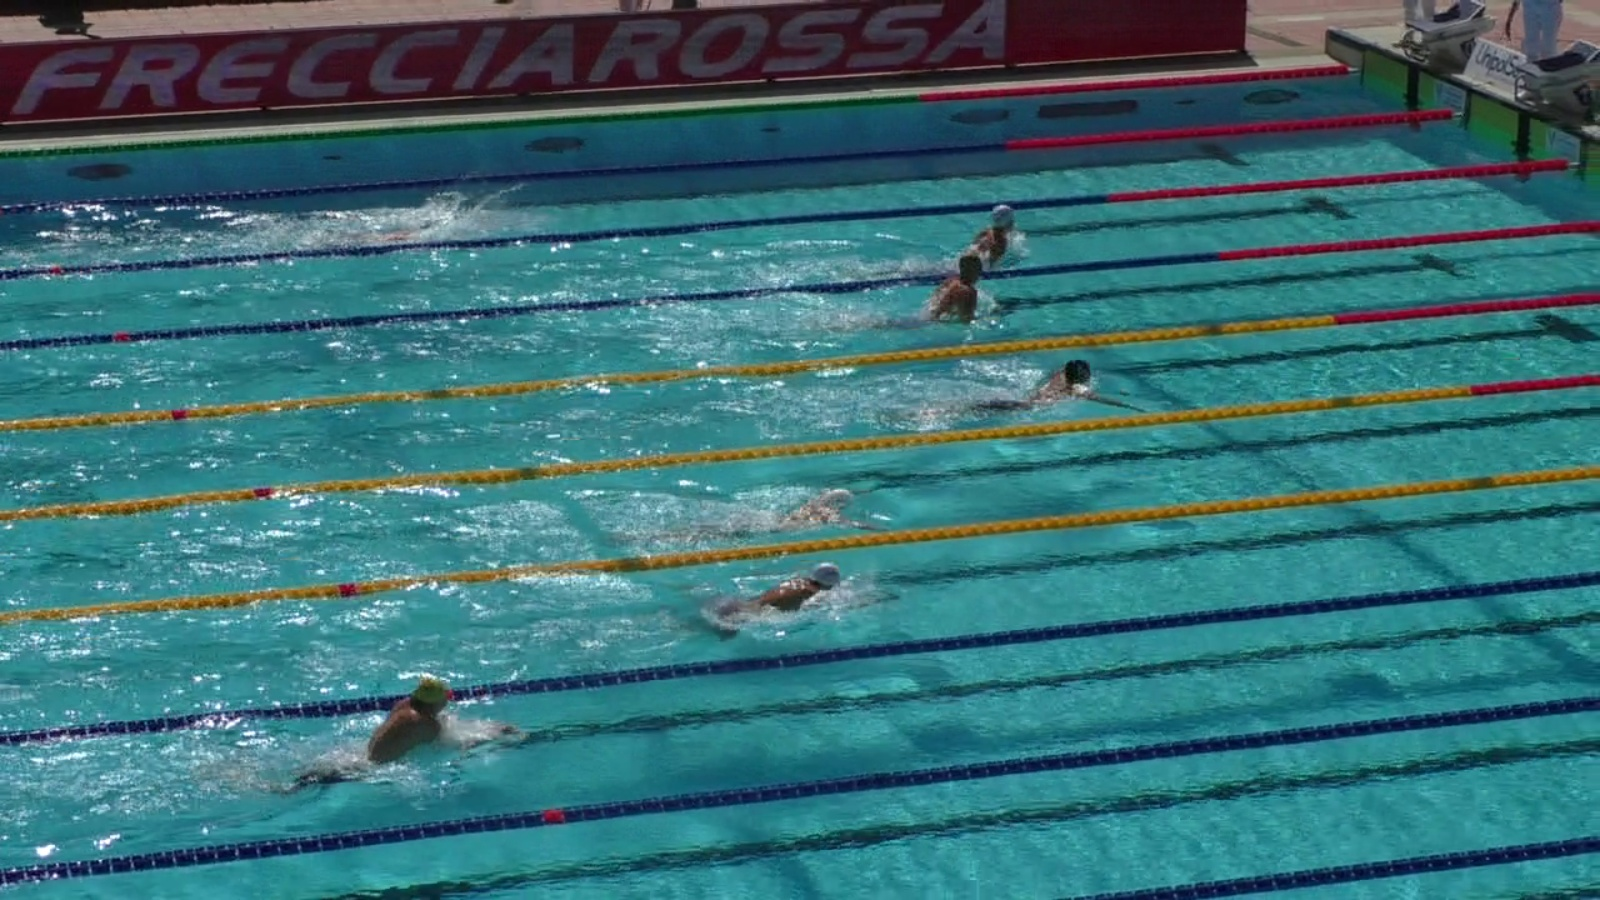swimmerwdd: (230, 675, 519, 789), (671, 563, 881, 637), (821, 204, 1021, 277), (919, 356, 1149, 416), (842, 260, 1002, 333), (651, 488, 884, 537), (262, 201, 446, 248)
